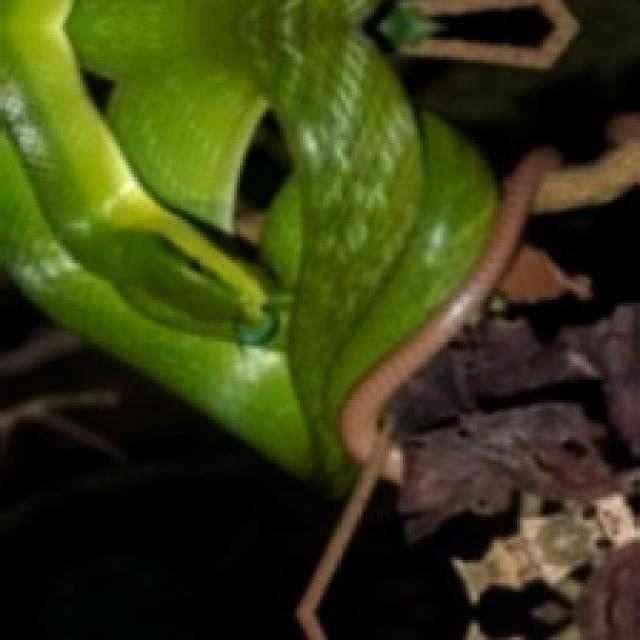red-tailed green ratsnake: (0, 0, 551, 491)
